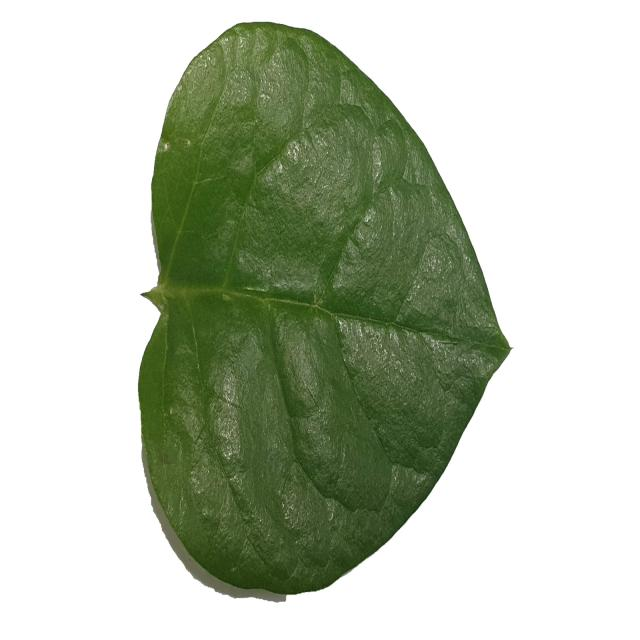Medicinal-Basale: (137, 21, 512, 594)
